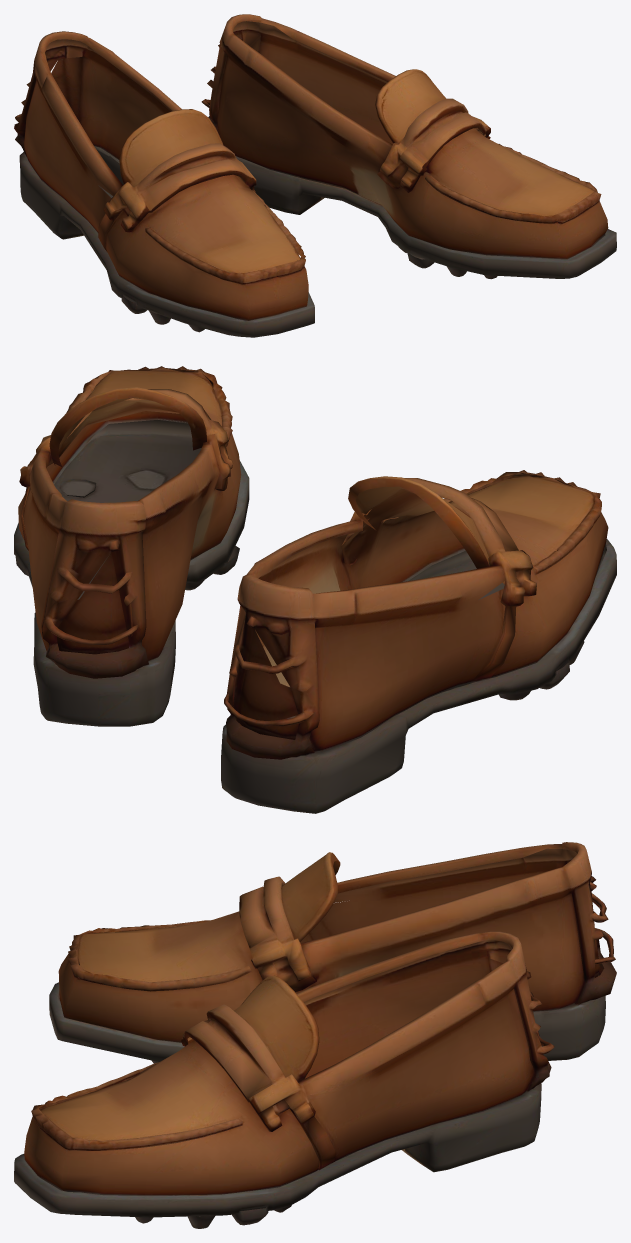
The picture shows the model from 3 angles, top to bottom: view 1: azimuth 30°, elevation 25°; view 2: azimuth 150°, elevation 25°; view 3: azimuth 270°, elevation 25°; orthographic projection. The views are drawn at different scales.
Bounding box in the file's own units: 0.9409 × 0.3501 × 0.9937.
1 material, 1 textured.
